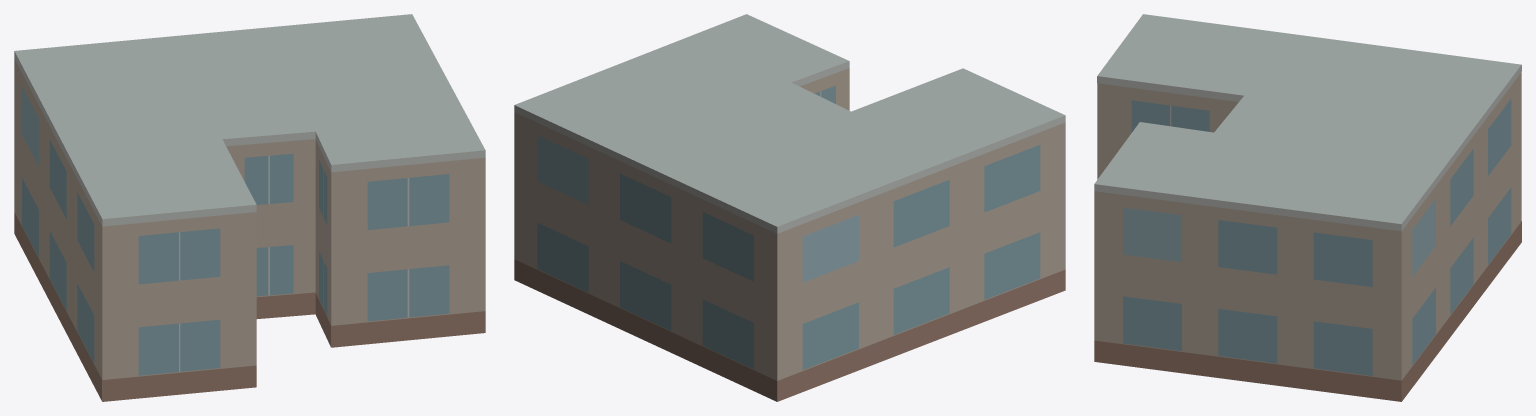
File: survey-upis-33005378.glb
The picture shows the model from 3 angles, left to right: view 1: azimuth 30°, elevation 25°; view 2: azimuth 150°, elevation 25°; view 3: azimuth 270°, elevation 25°; orthographic projection. The views are drawn at different scales.
Visible parts, largest first — view 1: survey-upis-33005378.tmp; view 2: survey-upis-33005378.tmp; view 3: survey-upis-33005378.tmp.
Boxes of the visible parts, bbox=[...] form: survey-upis-33005378.tmp: bbox=[14, 14, 485, 401]; survey-upis-33005378.tmp: bbox=[514, 14, 1065, 401]; survey-upis-33005378.tmp: bbox=[1094, 14, 1521, 401].
Size of the model in its own units: 15.48 by 6.1 by 13.31.
